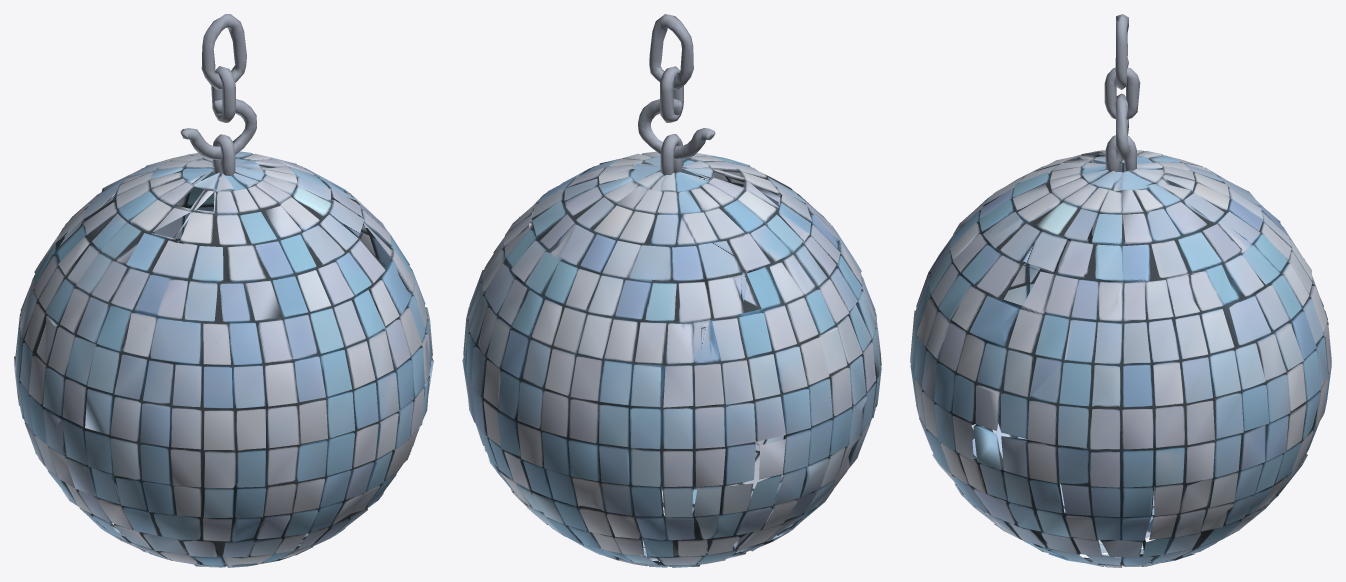
Rendered from dance_discoball.glb.
The picture shows the model from 3 angles, left to right: view 1: azimuth 30°, elevation 25°; view 2: azimuth 150°, elevation 25°; view 3: azimuth 270°, elevation 25°; orthographic projection.
Parts seen in each view (by area): view 1: geometry_0; view 2: geometry_0; view 3: geometry_0.
Boxes of the visible parts, x1=… form: geometry_0: x1=14, y1=14, x2=433, y2=567; geometry_0: x1=462, y1=14, x2=881, y2=567; geometry_0: x1=910, y1=14, x2=1331, y2=567.
Bounding box in the file's own units: 0.6782 × 0.9512 × 0.6782.
Materials: 1 (1 with a texture image).
